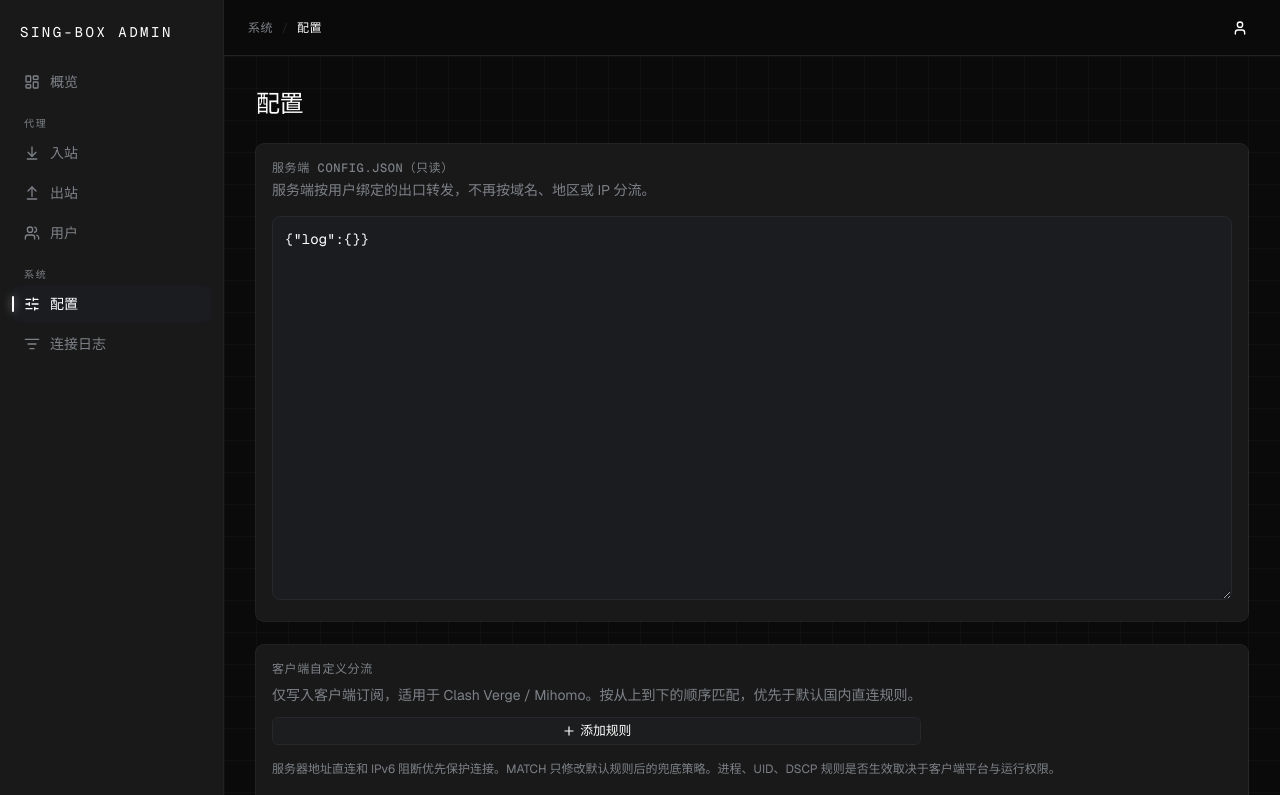
ConfigPage › 阻止空白规则提交并显示服务端校验错误
Click the button "添加规则". click: (597, 731)
box: [272,717,922,745]
(page scrolled)
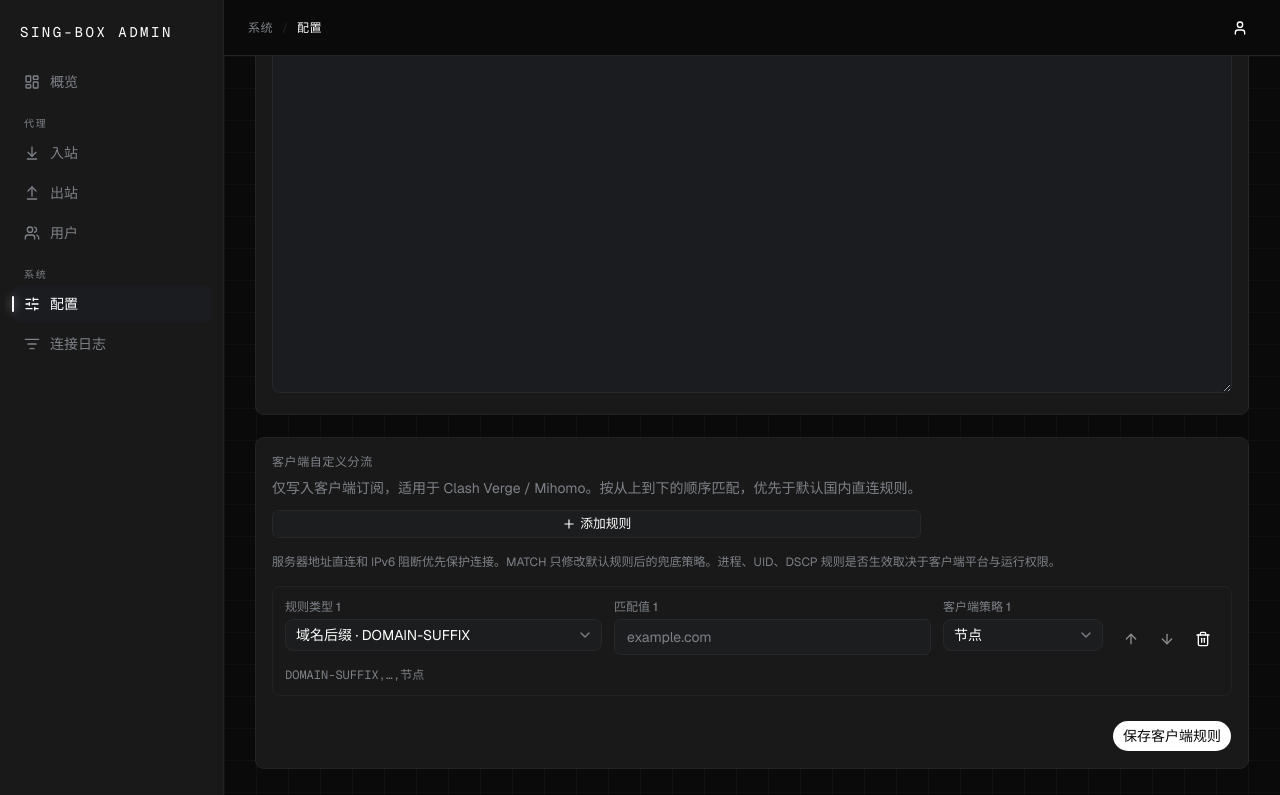
Click the button "保存客户端规则". click: (1172, 736)
box: [1112,720,1232,752]
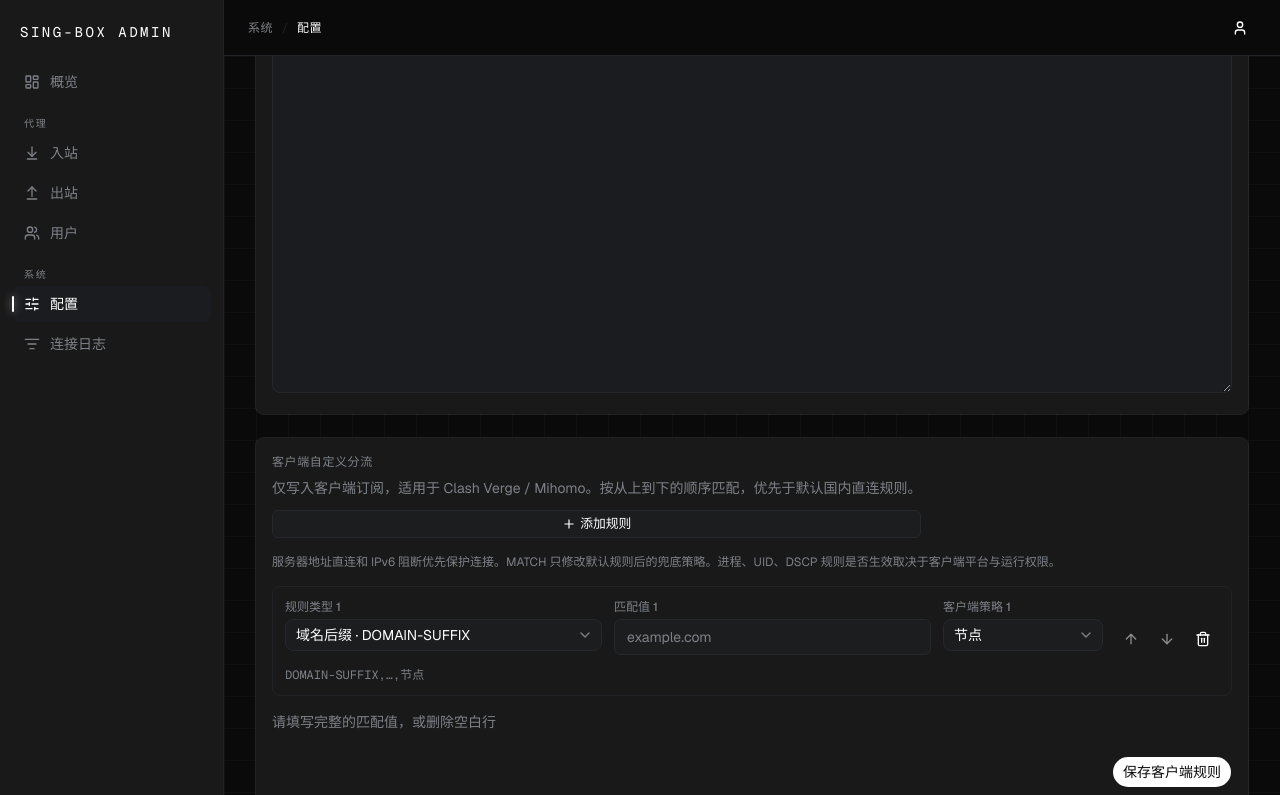
Now the message shows "匹配值", box [272,713,496,731]
Type "bad/domain" into the field labelled "匹配值 1". click: (772, 637)
box: [614,619,931,655]
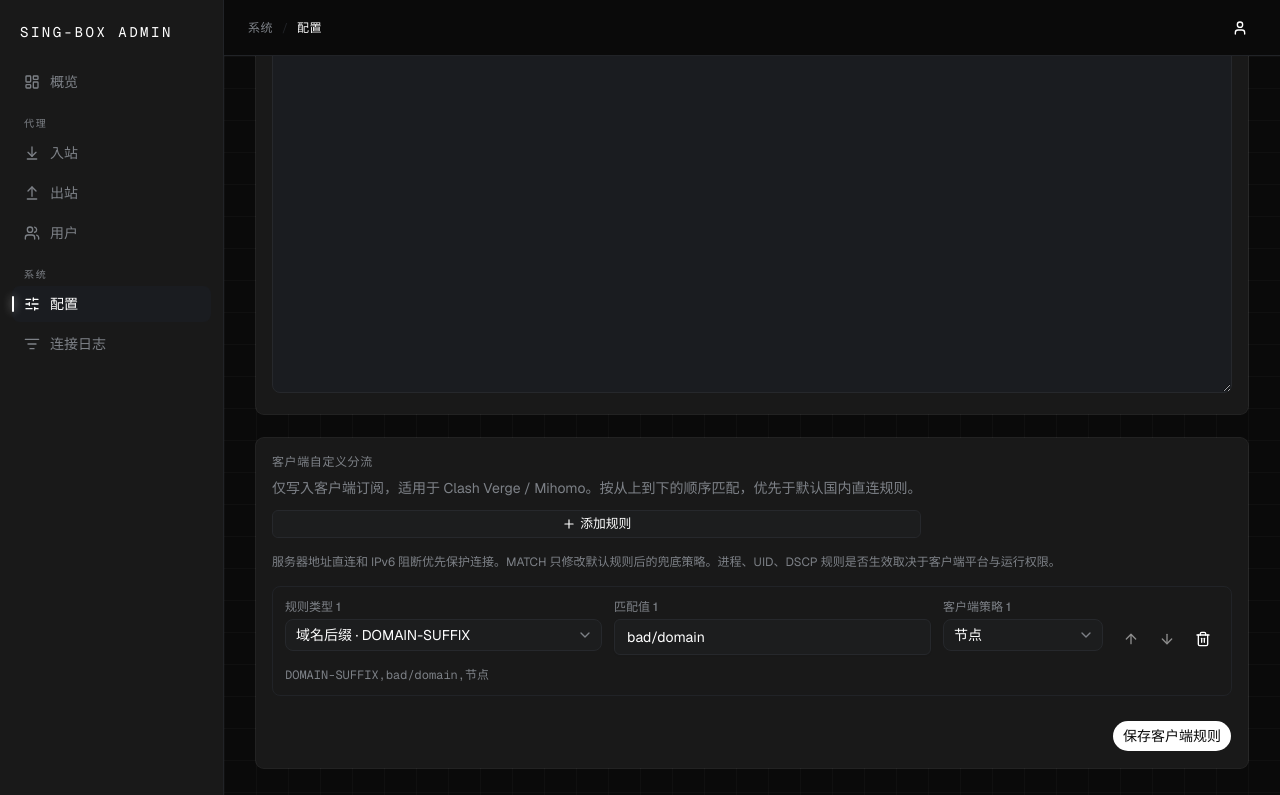
Click the button "保存客户端规则". click: (1172, 736)
box: [1112,720,1232,752]
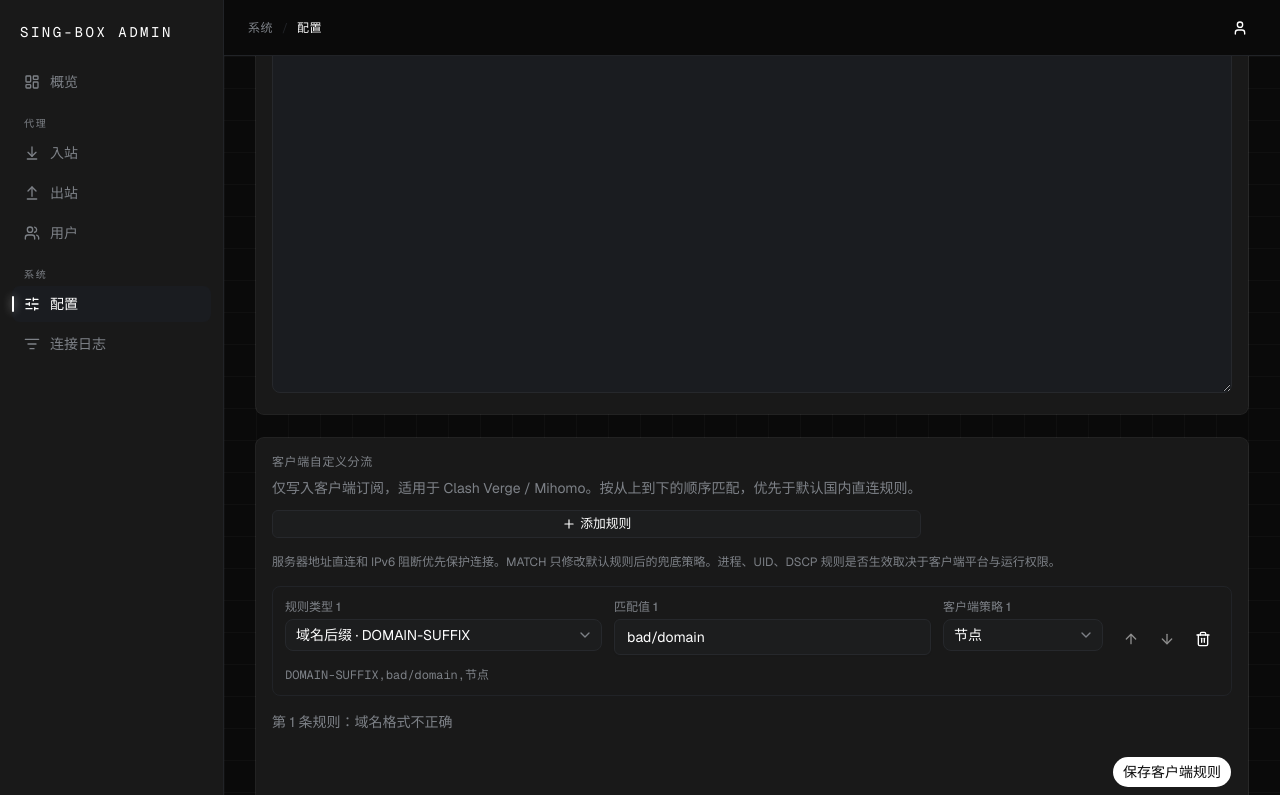
Now the text "第 1 条规则：域名格式不正确" is shown, box [272,713,452,731]
